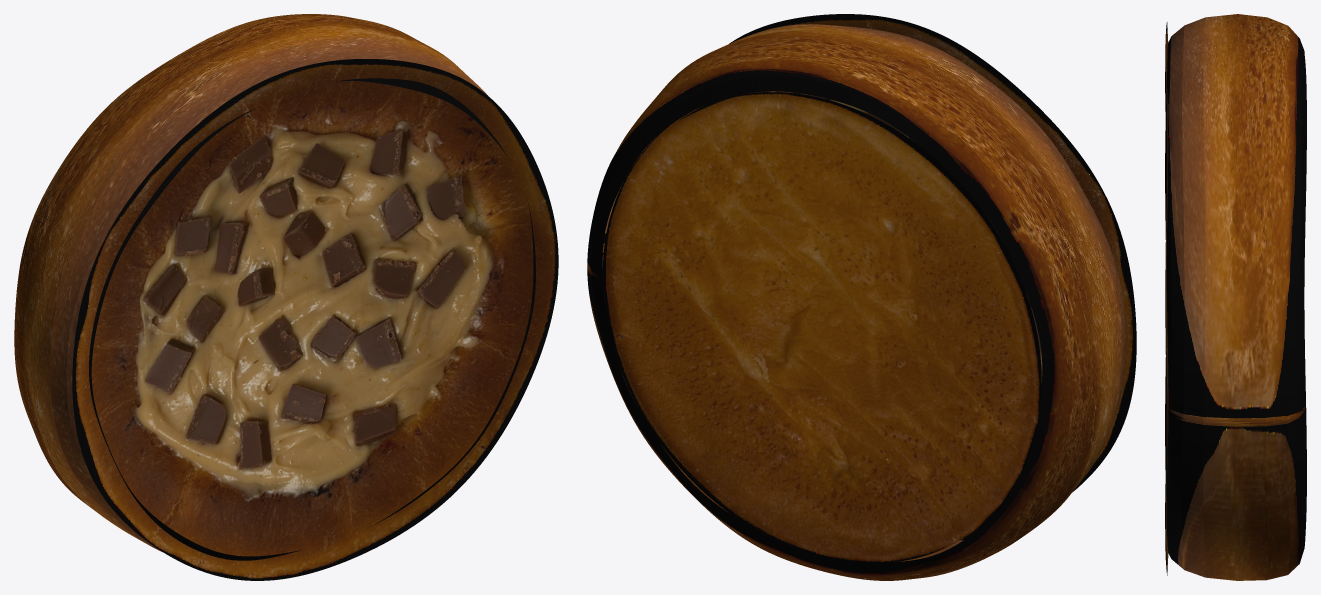
File: vatrushka_chocolate_cream.glb
3 views of the same model, side by side, from view 1: azimuth 30°, elevation 25°; view 2: azimuth 150°, elevation 25°; view 3: azimuth 270°, elevation 25° (orthographic).
Visible parts, largest first — view 1: Cream and chocolate top, Bun crust; view 2: Bun underside, Bun crust, Cream and chocolate top; view 3: Bun crust, Cream and chocolate top.
Part boxes in pixels (box(x1,y1,x2,y2)): Cream and chocolate top: box(72, 59, 558, 580); Bun crust: box(14, 14, 535, 560); Bun underside: box(602, 92, 1041, 562); Bun crust: box(587, 24, 1125, 580); Cream and chocolate top: box(729, 14, 1136, 491); Bun crust: box(1165, 14, 1306, 580); Cream and chocolate top: box(1165, 22, 1168, 575).
Size of the model in its own units: 12 by 12 by 3.
Materials: 3 (3 with a texture image).
